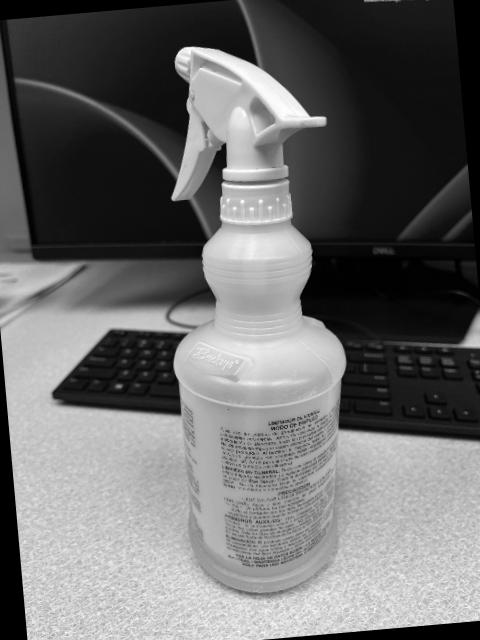StarSpray: (170, 47, 347, 598)
